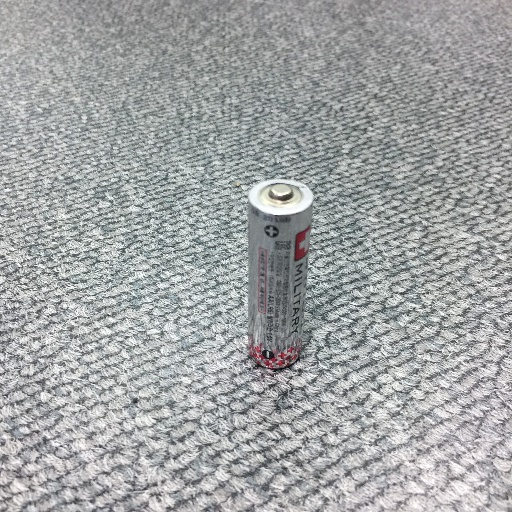Battery_0: (244, 175, 317, 372)
